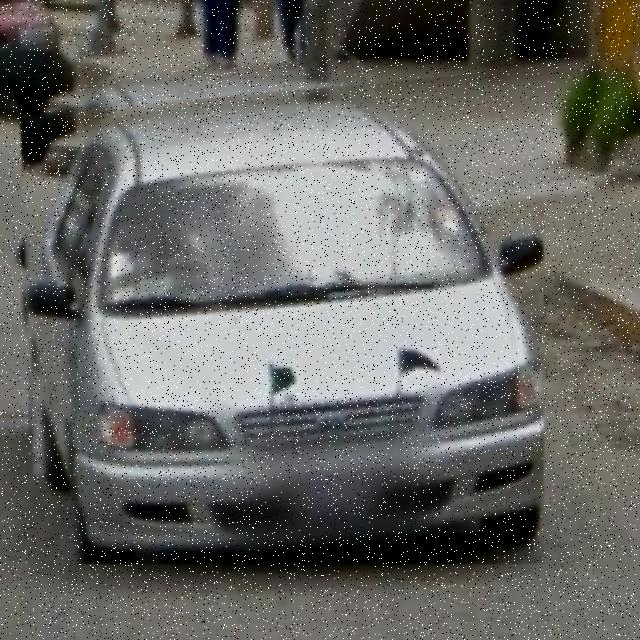car: (21, 69, 545, 565)
